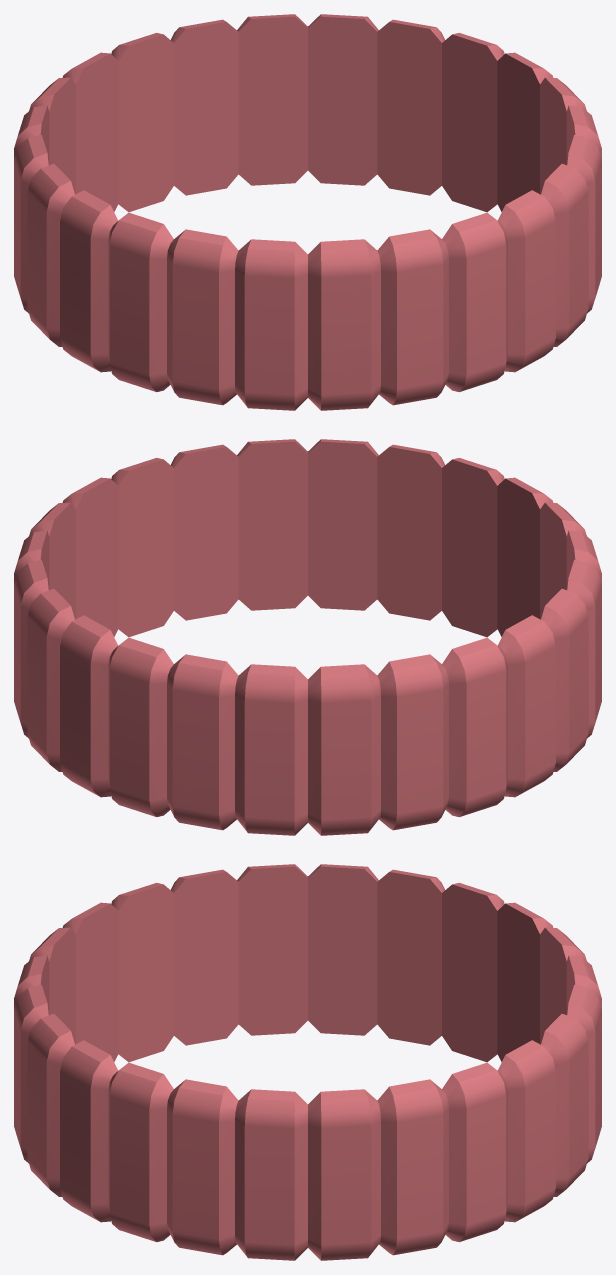
File: DiskatmanPembe.fbx
3 renders of one model, top to bottom at view 1: azimuth 30°, elevation 25°; view 2: azimuth 150°, elevation 25°; view 3: azimuth 270°, elevation 25°, orthographic.
Parts seen in each view (by area): view 1: pCylinder150, pCylinder149, pCylinder138, pCylinder137, pCylinder151, pCylinder148, pCylinder139, pCylinder136, pCylinder152, pCylinder147, pCylinder140, pCylinder135 (+12 smaller); view 2: pCylinder142, pCylinder141, pCylinder154, pCylinder153, pCylinder143, pCylinder140, pCylinder155, pCylinder152, pCylinder144, pCylinder139, pCylinder156, pCylinder151 (+12 smaller); view 3: pCylinder158, pCylinder157, pCylinder146, pCylinder145, pCylinder156, pCylinder135, pCylinder147, pCylinder144, pCylinder155, pCylinder136, pCylinder148, pCylinder143 (+12 smaller).
Part boxes in pixels (x1,y1,x2,y2): pCylinder150: (308,239,380,410); pCylinder149: (235,239,307,410); pCylinder138: (237,14,307,185); pCylinder137: (308,14,378,185); pCylinder151: (377,229,448,405); pCylinder148: (167,229,238,405); pCylinder139: (171,19,238,195); pCylinder136: (377,19,444,195); pCylinder152: (442,212,507,392); pCylinder147: (108,212,173,392); pCylinder140: (111,32,173,212); pCylinder135: (442,32,504,212); pCylinder142: (308,664,380,835); pCylinder141: (235,664,307,835); pCylinder154: (237,439,307,610); pCylinder153: (308,439,378,610); pCylinder143: (377,654,448,830); pCylinder140: (167,654,238,830); pCylinder155: (171,444,238,620); pCylinder152: (377,444,444,620); pCylinder144: (442,637,507,817); pCylinder139: (108,637,173,817); pCylinder156: (111,457,173,637); pCylinder151: (442,457,504,637); pCylinder158: (308,1089,380,1260); pCylinder157: (235,1089,307,1260); pCylinder146: (237,864,307,1035); pCylinder145: (308,864,378,1035); pCylinder156: (167,1079,238,1255); pCylinder135: (377,1079,448,1255); pCylinder147: (171,869,238,1045); pCylinder144: (377,869,444,1045); pCylinder155: (108,1062,173,1242); pCylinder136: (442,1062,507,1242); pCylinder148: (111,882,173,1062); pCylinder143: (442,882,504,1062).
Bounding box in the file's own units: 1.99 × 0.6216 × 1.99.
